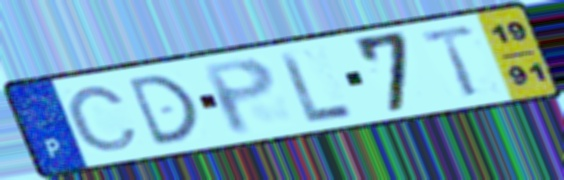7: (349, 29, 415, 116)
C: (64, 84, 142, 153)
D: (122, 71, 204, 149)
L: (275, 48, 358, 126)
P: (198, 55, 280, 138)
T: (418, 21, 483, 100)
